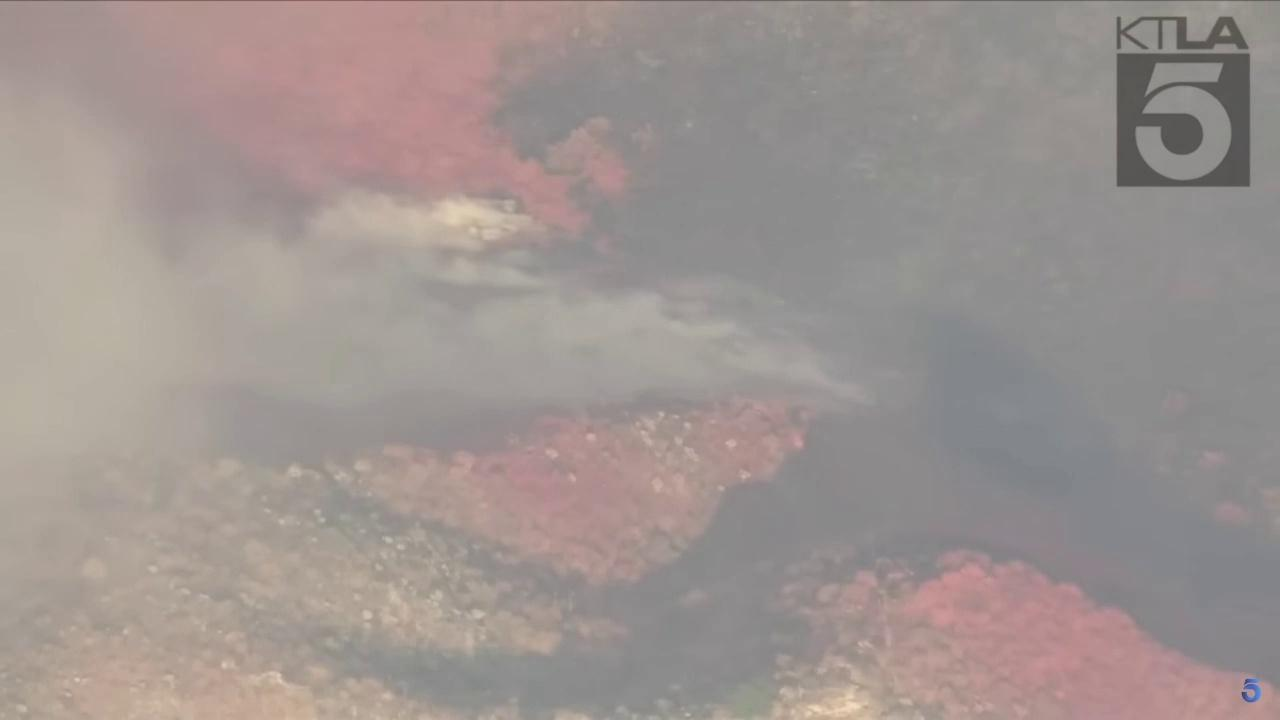smoke: (0, 0, 882, 432)
